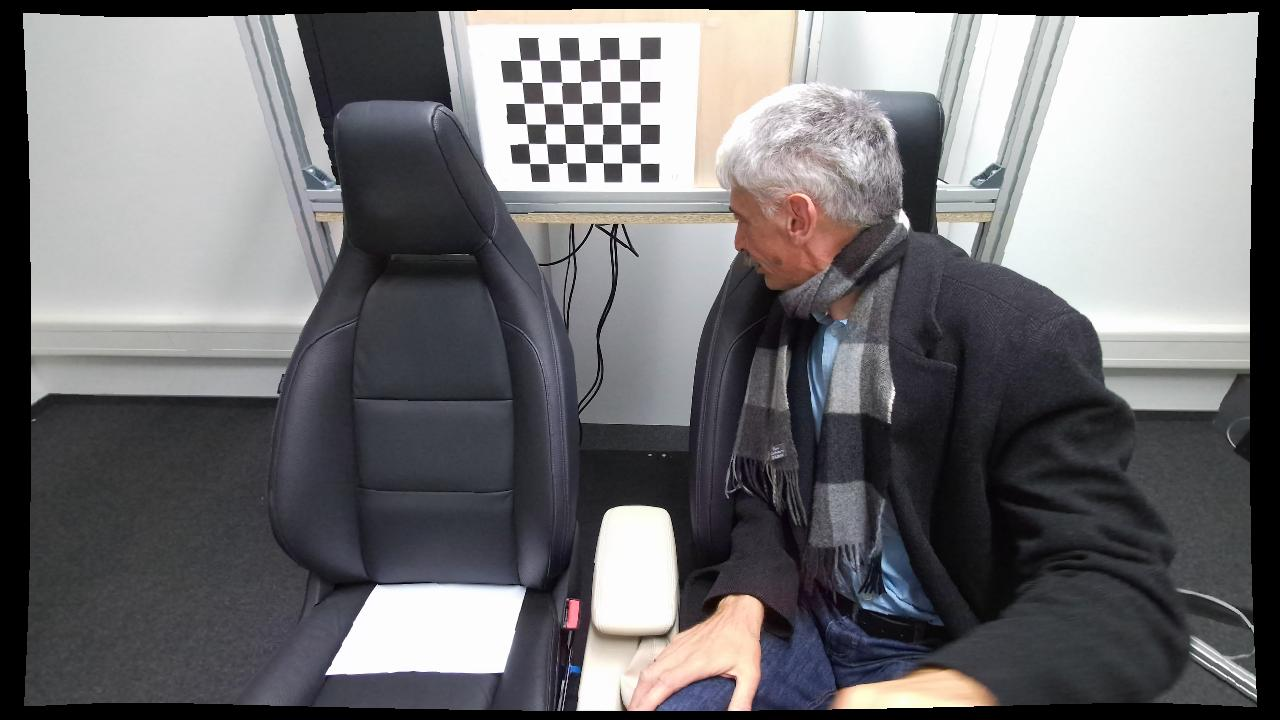Distracted: (625, 81, 1125, 710)
